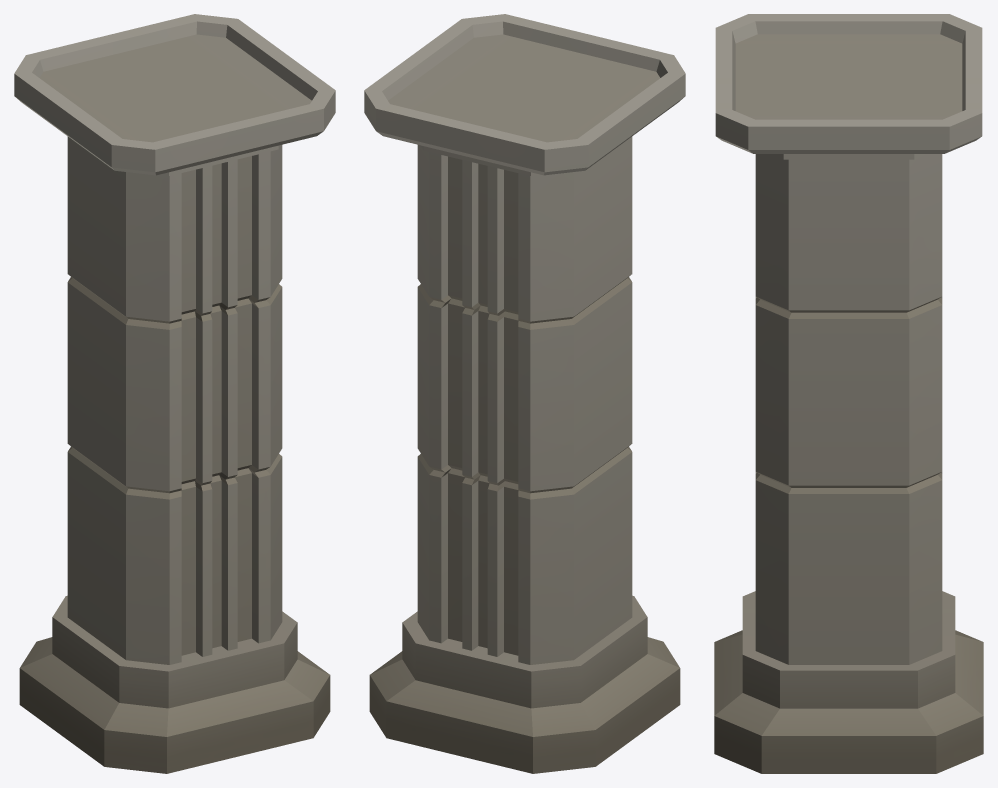
Rendered from Column_lvl2.fbx.
3 renders of one model, left to right at view 1: azimuth 30°, elevation 25°; view 2: azimuth 150°, elevation 25°; view 3: azimuth 270°, elevation 25°, orthographic. The views are drawn at different scales.
Visible parts, largest first — view 1: Collumn; view 2: Collumn; view 3: Collumn.
Part boxes in pixels (x1,y1,x2,y2): Collumn: (14, 14, 335, 773); Collumn: (364, 14, 685, 773); Collumn: (714, 14, 983, 773).
Bounding box in the file's own units: 1.13 × 3 × 1.13.
